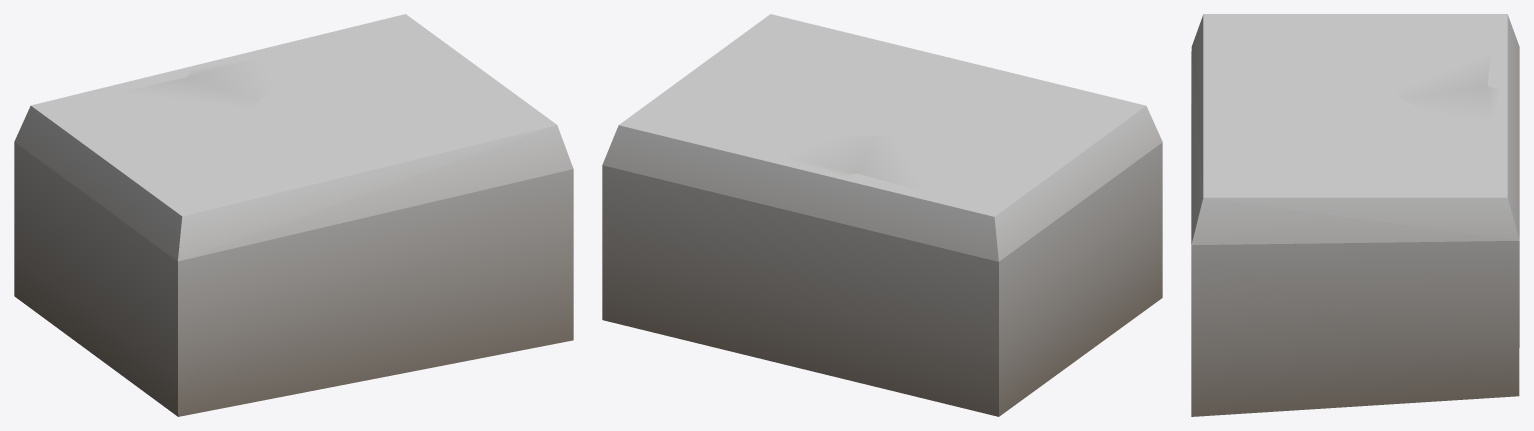
The model's file is s_fuel_charger_concrete_base.dae.
The picture shows the model from 3 angles, left to right: view 1: azimuth 30°, elevation 25°; view 2: azimuth 150°, elevation 25°; view 3: azimuth 270°, elevation 25°; orthographic projection.
Visible parts, largest first — view 1: Colmesh_s_fuel_charger_concrete_base-1, s_fuel_charger_concrete_base_L200, s_fuel_charger_concrete_base_L400; view 2: Colmesh_s_fuel_charger_concrete_base-1, s_fuel_charger_concrete_base_L200, s_fuel_charger_concrete_base_L400; view 3: Colmesh_s_fuel_charger_concrete_base-1, s_fuel_charger_concrete_base_L200, s_fuel_charger_concrete_base_L400.
Boxes of the visible parts, box(x1,y1,x2,y2) form: Colmesh_s_fuel_charger_concrete_base-1: box(14, 106, 573, 416); s_fuel_charger_concrete_base_L200: box(31, 14, 556, 216); s_fuel_charger_concrete_base_L400: box(41, 34, 331, 192); Colmesh_s_fuel_charger_concrete_base-1: box(602, 106, 1162, 416); s_fuel_charger_concrete_base_L200: box(619, 14, 1145, 216); s_fuel_charger_concrete_base_L400: box(700, 127, 1106, 212); Colmesh_s_fuel_charger_concrete_base-1: box(1191, 14, 1519, 416); s_fuel_charger_concrete_base_L200: box(1203, 14, 1507, 197); s_fuel_charger_concrete_base_L400: box(1266, 17, 1502, 158).
Bounding box in the file's own units: 1.06 × 0.7558 × 0.5493.
